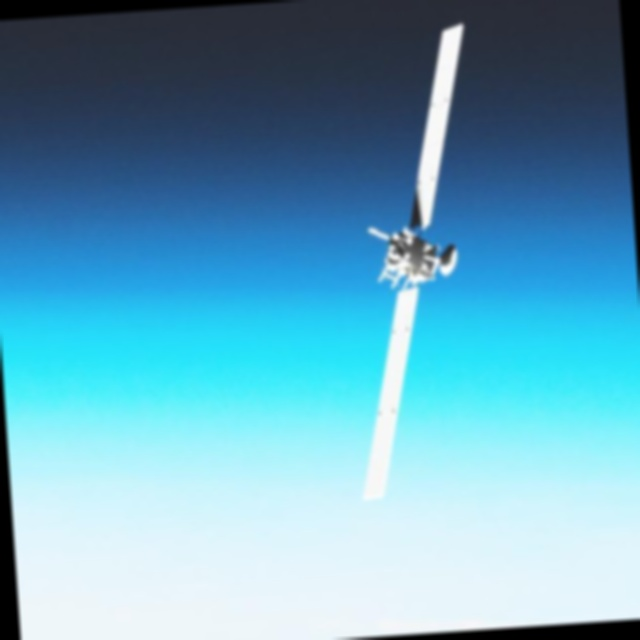satellite: (325, 10, 512, 504)
